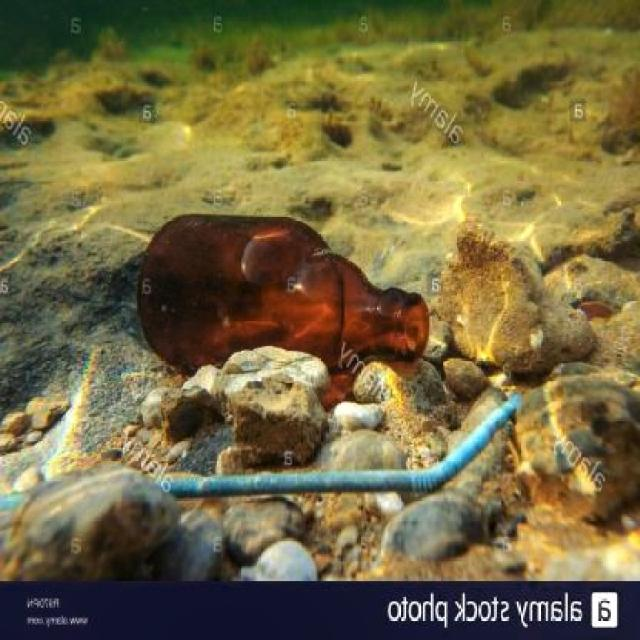gbottle: (138, 214, 433, 372)
plastic: (160, 393, 523, 504)
